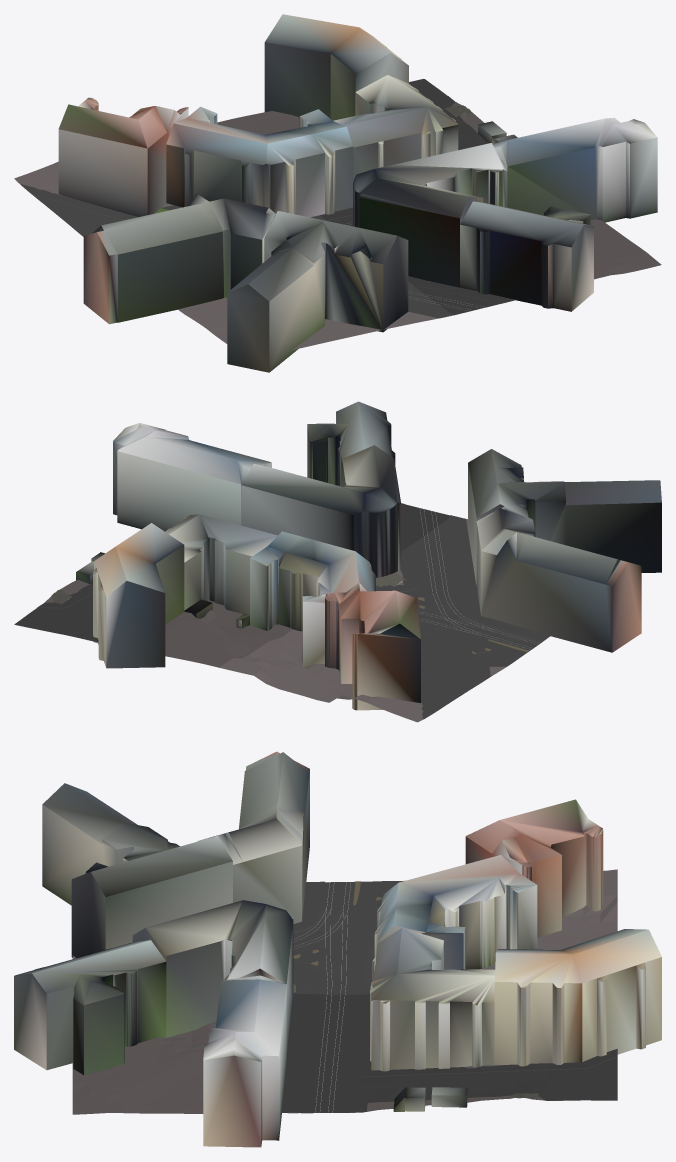
The picture shows the model from 3 angles, top to bottom: view 1: azimuth 30°, elevation 25°; view 2: azimuth 150°, elevation 25°; view 3: azimuth 270°, elevation 25°; orthographic projection. The views are drawn at different scales.
Visible parts, largest first — view 1: c_m11_m02, append:c_m11_m02; view 2: c_m11_m02, append:c_m11_m02; view 3: c_m11_m02, append:c_m11_m02.
Boxes of the visible parts, box(x1,y1,x2,y2) form: c_m11_m02: box(58, 14, 661, 372); append:c_m11_m02: box(14, 124, 452, 350); c_m11_m02: box(14, 401, 661, 710); append:c_m11_m02: box(219, 515, 550, 722); c_m11_m02: box(14, 751, 661, 1147); append:c_m11_m02: box(72, 869, 617, 994).
Bounding box in the file's own units: 166 × 30.21 × 152.
